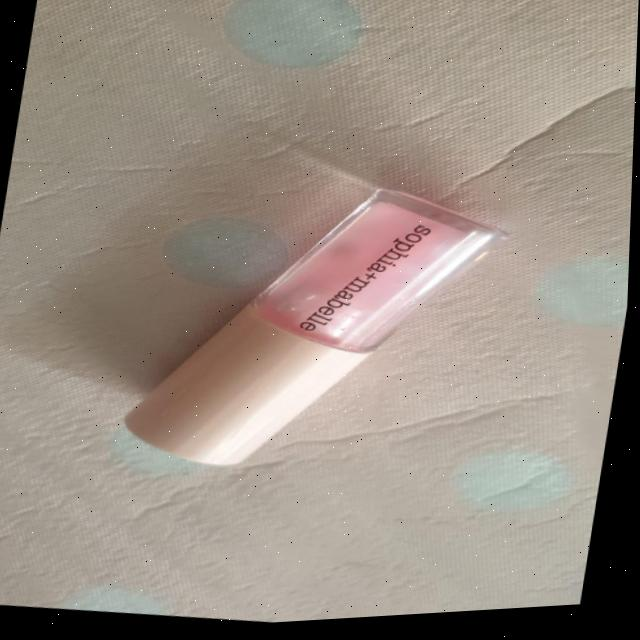lip gloss: (84, 139, 524, 507)
